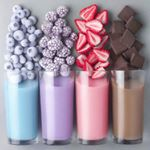cups: (37, 68, 78, 148), (1, 68, 42, 147), (109, 67, 147, 146), (75, 68, 108, 147)
